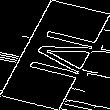M_E: (8, 25, 102, 85)
